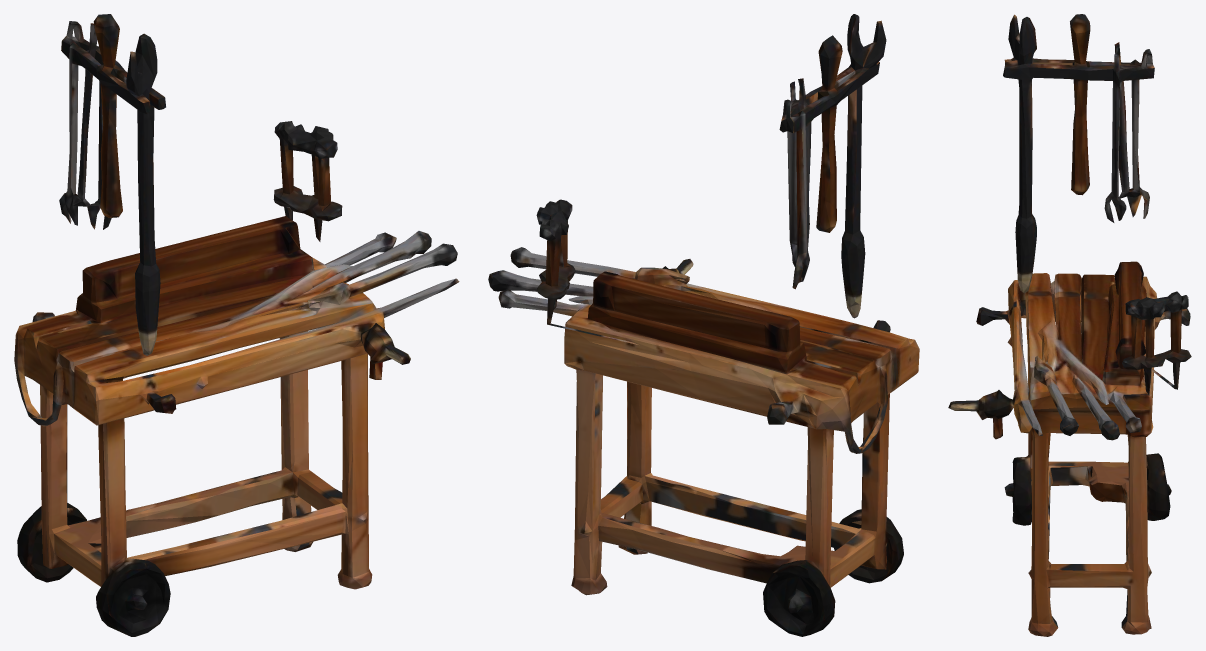
The model's file is tuning_bench.glb.
The picture shows the model from 3 angles, left to right: view 1: azimuth 30°, elevation 25°; view 2: azimuth 150°, elevation 25°; view 3: azimuth 270°, elevation 25°; orthographic projection. The views are drawn at different scales.
Parts seen in each view (by area): view 1: textured_mesh.obj; view 2: textured_mesh.obj; view 3: textured_mesh.obj.
Boxes of the visible parts, x1,y1,x2,y2 form: textured_mesh.obj: [14, 14, 459, 636]; textured_mesh.obj: [488, 14, 919, 636]; textured_mesh.obj: [948, 14, 1191, 636].
Size of the model in its own units: 1.54 by 2.25 by 0.9466.
1 material, 1 textured.
